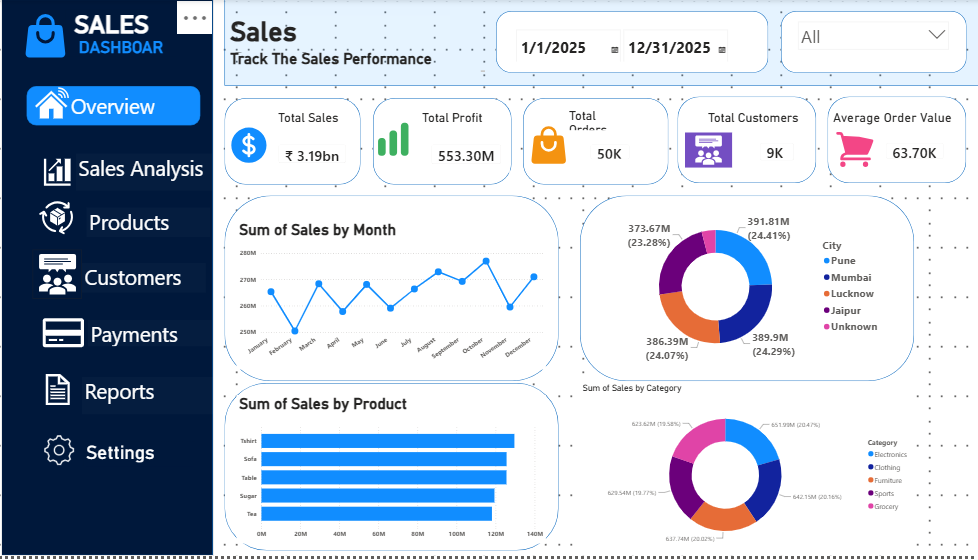

The dashboard page shown, as its layout file describes it:
{"tool":"powerbi","page":{"name":"Page 1","canvas":[1920,1080],"ordinal":0},"visuals":[{"type":"shape","box":[24,0,412,1080],"z":0},{"type":"shape","box":[1035.6,190.8,282.1,168],"z":0,"group":"g16"},{"type":"group","id":"g1","title":"Group 1","box":[179.8,731,264,72],"z":0,"group":"g8"},{"type":"textbox","title":"SALES","box":[147.4,19.8,178.6,56.7],"z":1000},{"type":"textbox","title":"Total Orders","box":[1118.6,211.8,143,42],"z":1000,"group":"g16"},{"type":"textbox","title":"Sales Analysis","box":[168,300,264,72],"z":1000,"group":"g12"},{"type":"textbox","title":"Products","box":[189.6,405.8,240,57.6],"z":1000,"group":"g11"},{"type":"textbox","title":"Customers","box":[179.6,512,240,57.6],"z":1000,"group":"g15"},{"type":"textbox","title":"Payments","box":[192,624,240,50.4],"z":1000,"group":"g7"},{"type":"image","box":[48,720,168,72],"z":1000,"group":"g8"},{"type":"textbox","title":"Reports","box":[179.8,731,264,72],"z":1000,"group":"g13"},{"type":"textbox","title":"DASHBOARD","box":[146,76.5,221.1,36.9],"z":2000},{"type":"image","box":[96,288,72,96],"z":2000,"group":"g12"},{"type":"image","box":[48,24,120,96],"z":3000},{"type":"shape","box":[72,168.6,337.3,76.5],"z":3000,"group":"g2"},{"type":"textbox","title":"Average Order Value","box":[1632,216,284.9,45],"z":3000,"group":"g17"},{"type":"shape","box":[456,0,1464,168],"z":4000},{"type":"textbox","title":"Settings","box":[183.3,857.7,216,48],"z":4000,"group":"g9"},{"type":"textbox","title":"Sales Overview","box":[462.5,30.8,432,72],"z":5000},{"type":"image","box":[83.6,484.5,96,96],"z":5000,"group":"g5"},{"type":"textbox","title":"Track The Sales Performance","box":[462.5,98.8,504,48],"z":6000},{"type":"group","id":"g2","title":"Group 3","box":[72,168,336,96],"z":7000},{"type":"image","box":[96,600,96,96],"z":7000,"group":"g4"},{"type":"image","box":[63.3,833.7,144,80],"z":7000,"group":"g9"},{"type":"group","id":"g3","title":"Group 1","box":[96,288,312,96],"z":8000},{"type":"shape","box":[984,24,528,120],"z":9000},{"type":"slicer","fields":{"Values":["sales_db clean_sales_data.Order_Date"]},"box":[1008,48,480,72],"z":10000},{"type":"shape","box":[1536,24,360,120],"z":11000},{"type":"slicer","fields":{"Values":["sales_db clean_sales_data.City"]},"box":[1560,32,312,87],"z":12000},{"type":"group","id":"g4","title":"Group 4","box":[96,600,312,96],"z":13000},{"type":"group","id":"g5","title":"Group 5","box":[83.6,484.5,336,96],"z":14000},{"type":"group","id":"g6","title":"Group 6","box":[83.6,376.6,346,96],"z":15000},{"type":"group","id":"g7","title":"Group 1","box":[192,624,240,50.4],"z":16000,"group":"g4"},{"type":"group","id":"g8","title":"Group 8","box":[48,720,395.8,83],"z":16000},{"type":"group","id":"g9","title":"Group 9","box":[63.3,833.7,336,80],"z":17000},{"type":"shape","box":[456,192,264,168],"z":18000},{"type":"image","box":[83.6,376.6,96,96],"z":18000,"group":"g6"},{"type":"shape","box":[1626.2,189.3,269,168],"z":19000},{"type":"shape","box":[744,192,269,168],"z":19000,"group":"g14"},{"type":"group","id":"g10","title":"Group 1","box":[179.6,512,240,57.6],"z":19000,"group":"g5"},{"type":"shape","box":[1334.1,190.3,269,168],"z":20000},{"type":"group","id":"g11","title":"Group 1","box":[189.6,405.8,240,57.6],"z":20000,"group":"g6"},{"type":"image","box":[456,240,95,84],"z":21000},{"type":"group","id":"g12","title":"Group 7","box":[96,288,336,96],"z":21003,"group":"g3"},{"type":"group","id":"g13","title":"Group 7","box":[179.8,731,264,72],"z":21003,"group":"g1"},{"type":"group","id":"g14","title":"Group 12","box":[744,192,264,168],"z":22000},{"type":"image","box":[744,234,79.1,78.8],"z":22000,"group":"g14"},{"type":"group","id":"g15","title":"Group 2","box":[179.6,512,240,57.6],"z":22002,"group":"g10"},{"type":"textbox","title":"Total Customers","box":[1376.1,214.3,212,42],"z":23000},{"type":"textbox","title":"Total Profit","box":[833.2,216,144,48],"z":23000,"group":"g14"},{"type":"textbox","title":"Total Sales","box":[554.7,216.5,149,42],"z":24000},{"type":"group","id":"g16","title":"Group 13","box":[1035.6,190.8,282.1,168],"z":25000},{"type":"image","box":[73,168,96,72],"z":25001,"group":"g2"},{"type":"cardVisual","fields":{"Data":["sales_db clean_sales_data.Total Sales"]},"box":[544.7,264.5,165,70],"z":26000},{"type":"image","box":[1030.5,242,111,83],"z":27000},{"type":"group","id":"g17","title":"Group 11","box":[1632,216,264,48],"z":28000},{"type":"image","box":[1350.1,257.5,91,68],"z":29000},{"type":"image","box":[1623.2,250.3,112,83],"z":30000},{"type":"cardVisual","fields":{"Data":["sales_db clean_sales_data.Total Customers"]},"box":[1478.1,262.3,100,68],"z":31000},{"type":"cardVisual","fields":{"Data":["sales_db clean_sales_data.Total Orders"]},"box":[1150.5,265,110,63],"z":32000},{"type":"cardVisual","fields":{"Data":["sales_db clean_sales_data.Average Orders Value"]},"box":[1722.2,261.3,146,65],"z":33000},{"type":"cardVisual","fields":{"Data":["sales_db clean_sales_data.Total Profit"]},"box":[840,264,169,72],"z":34000},{"type":"shape","box":[456.7,381.5,648,360],"z":34001},{"type":"lineChart","fields":{"Category":["sales_db clean_sales_data.Order_Date.Variation.Date Hierarchy.Month"],"Y":["Sum(sales_db clean_sales_data.Sales)"]},"box":[480.7,429.5,600,288],"z":34002},{"type":"shape","box":[1146.2,382.1,648,360],"z":34003},{"type":"donutChart","fields":{"Category":["sales_db clean_sales_data.City"],"Y":["Sum(sales_db clean_sales_data.Sales)"]},"box":[1194.2,402.1,542,312],"z":34004},{"type":"shape","box":[456,744,648,325],"z":34005},{"type":"clusteredBarChart","fields":{"Category":["sales_db clean_sales_data.Product"],"Y":["Sum(sales_db clean_sales_data.Sales)"]},"box":[480,768,600,288],"z":34006},{"type":"donutChart","fields":{"Category":["sales_db clean_sales_data.Category"],"Y":["Sum(sales_db clean_sales_data.Sales)"]},"box":[1146,744,648,325],"z":34007}]}

Visuals, with their boxes in screenshot pixels (x1, y1, x2, y2), scaled from the page's 1920x1080 canvas onto the 978x560 screenshot:
shape: 12:0:222:559
shape: 528:99:671:186
"Group 1" group: 92:379:226:416
"SALES" textbox: 75:10:166:40
"Total Orders" textbox: 570:110:643:132
"Sales Analysis" textbox: 86:156:220:193
"Products" textbox: 97:210:219:240
"Customers" textbox: 91:265:214:295
"Payments" textbox: 98:324:220:350
image: 24:373:110:411
"Reports" textbox: 92:379:226:416
"DASHBOARD" textbox: 74:40:187:59
image: 49:149:86:199
image: 24:12:86:62
shape: 37:87:208:127
"Average Order Value" textbox: 831:112:976:135
shape: 232:0:977:87
"Settings" textbox: 93:445:203:470
"Sales Overview" textbox: 236:16:456:53
image: 43:251:91:301
"Track The Sales Performance" textbox: 236:51:492:76
"Group 3" group: 37:87:208:137
image: 49:311:98:361
image: 32:432:106:474
"Group 1" group: 49:149:208:199
shape: 501:12:770:75
slicer - sales_db clean_sales_data.Order_Date: 513:25:758:62
shape: 782:12:966:75
slicer - sales_db clean_sales_data.City: 795:17:954:62
"Group 4" group: 49:311:208:361
"Group 5" group: 43:251:214:301
"Group 6" group: 43:195:219:245
"Group 1" group: 98:324:220:350
"Group 8" group: 24:373:226:416
"Group 9" group: 32:432:203:474
shape: 232:100:367:187
image: 43:195:91:245
shape: 828:98:965:185
shape: 379:100:516:187
"Group 1" group: 91:265:214:295
shape: 680:99:817:186
"Group 1" group: 97:210:219:240
image: 232:124:281:168
"Group 7" group: 49:149:220:199
"Group 7" group: 92:379:226:416
"Group 12" group: 379:100:513:187
image: 379:121:419:162
"Group 2" group: 91:265:214:295
"Total Customers" textbox: 701:111:809:133
"Total Profit" textbox: 424:112:498:137
"Total Sales" textbox: 283:112:358:134
"Group 13" group: 528:99:671:186
image: 37:87:86:124
cardVisual - sales_db clean_sales_data.Total Sales: 277:137:362:173
image: 525:125:581:169
"Group 11" group: 831:112:966:137
image: 688:134:734:169
image: 827:130:884:173
cardVisual - sales_db clean_sales_data.Total Customers: 753:136:804:171
cardVisual - sales_db clean_sales_data.Total Orders: 586:137:642:170
cardVisual - sales_db clean_sales_data.Average Orders Value: 877:135:952:169
cardVisual - sales_db clean_sales_data.Total Profit: 428:137:514:174
shape: 233:198:563:384
lineChart - sales_db clean_sales_data.Order_Date.Variation.Date Hierarchy.Month x Sum(sales_db clean_sales_data.Sales): 245:223:550:372
shape: 584:198:914:385
donutChart - sales_db clean_sales_data.City x Sum(sales_db clean_sales_data.Sales): 608:208:884:370
shape: 232:386:562:554
clusteredBarChart - sales_db clean_sales_data.Product x Sum(sales_db clean_sales_data.Sales): 244:398:550:548
donutChart - sales_db clean_sales_data.Category x Sum(sales_db clean_sales_data.Sales): 584:386:914:554
